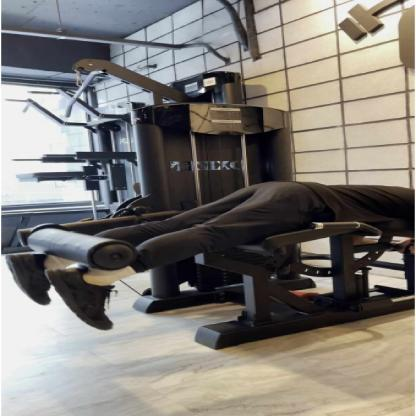reg curl machine: (3, 97, 416, 355)
